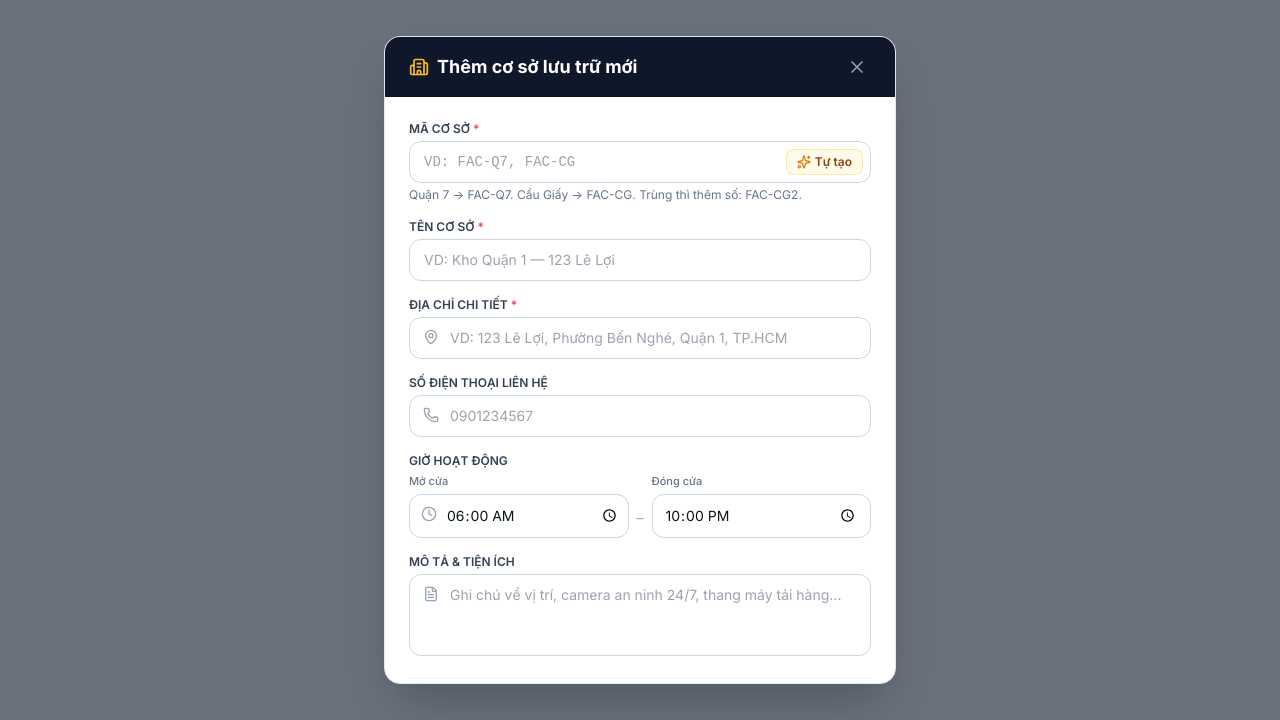
FacilityModal: Auto-generate Facility Code › cho phép người dùng tự sửa tay mã cơ sở và không bị ghi đè lại
// Tự sinh FAC-Q1
Type "Quận 1, TP.HCM" into the field with placeholder "VD: 123 Lê Lợi, Phường Bến Nghé, Quận 1, TP.HCM" at x=640, y=338, box top-left (409, 317), bottom-right (871, 359)
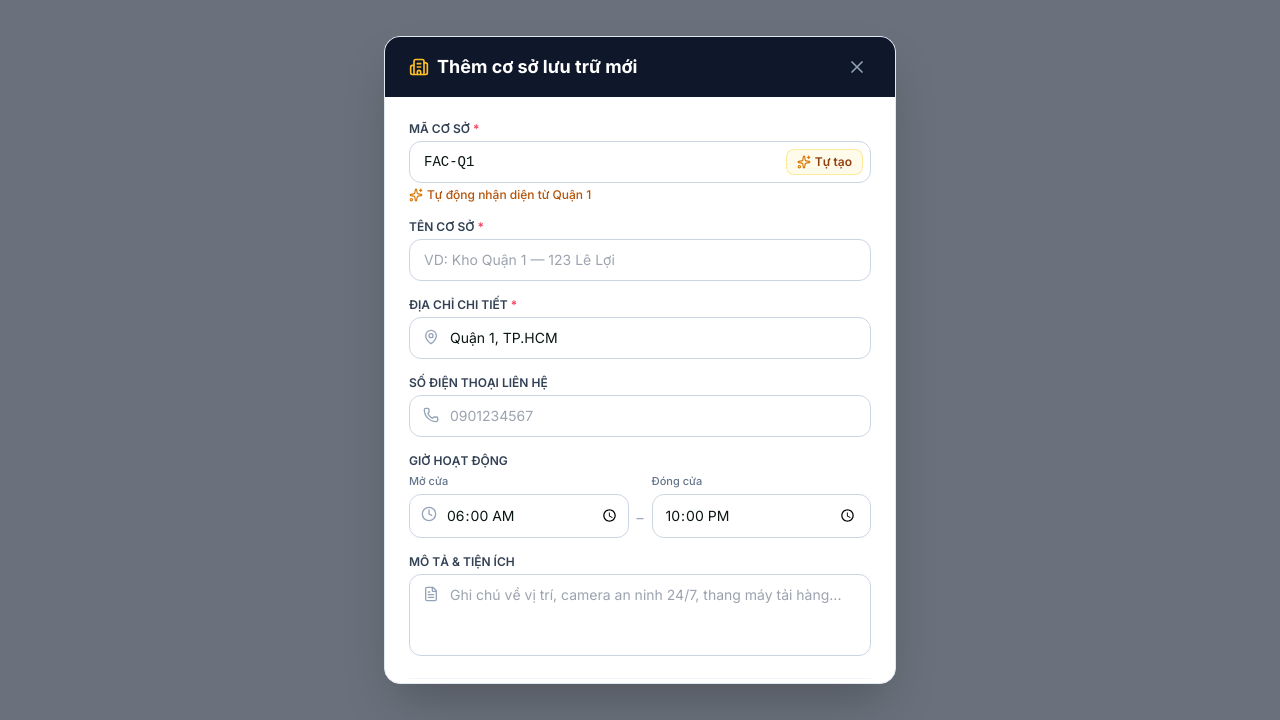
Result: the field with placeholder "VD: FAC-Q7, FAC-CG" below "Mã cơ sở" holds "FAC-Q1"
// Người dùng tự sửa tay thành FAC-VIP
Replace the text in the field with placeholder "VD: FAC-Q7, FAC-CG" below "Mã cơ sở" with "FAC-VIP" at x=640, y=162, box top-left (409, 141), bottom-right (871, 183)
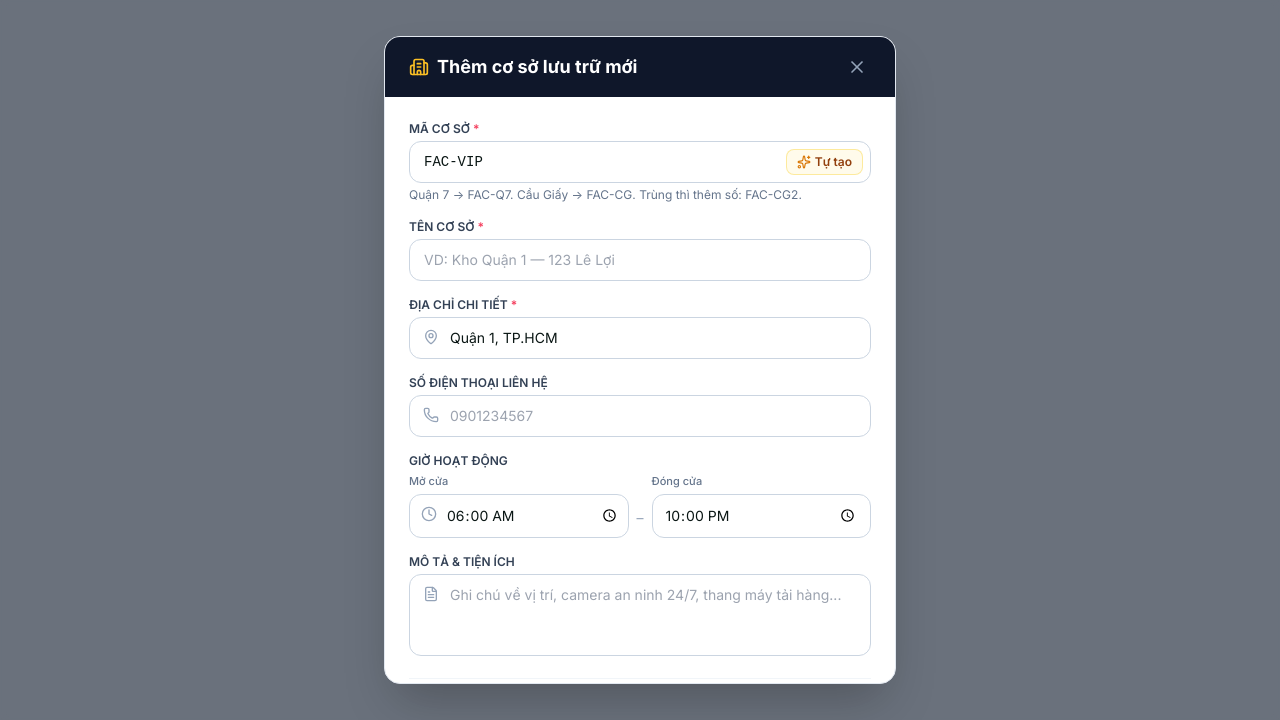
Type "Cơ sở Quận 7" into the field with placeholder "VD: Kho Quận 1 — 123 Lê Lợi" at x=640, y=260, box top-left (409, 239), bottom-right (871, 281)
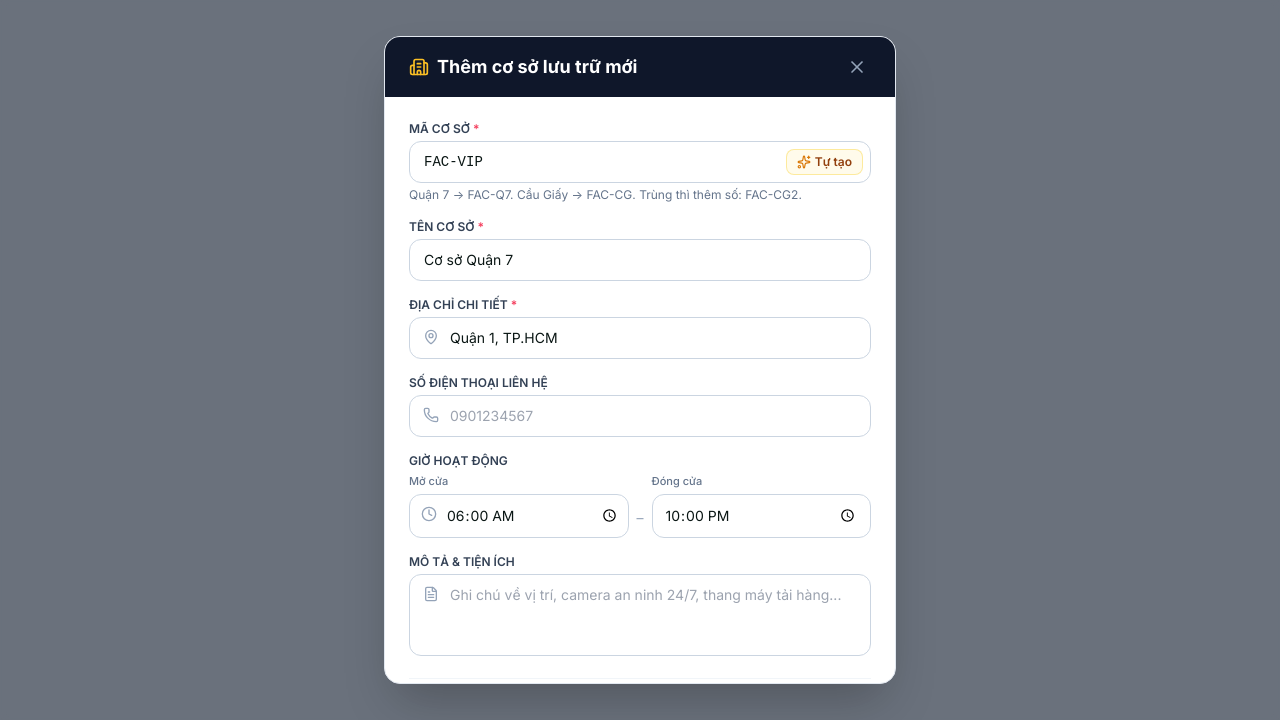
Click the button "Tự tạo" at x=824, y=162, box top-left (786, 149), bottom-right (863, 175)
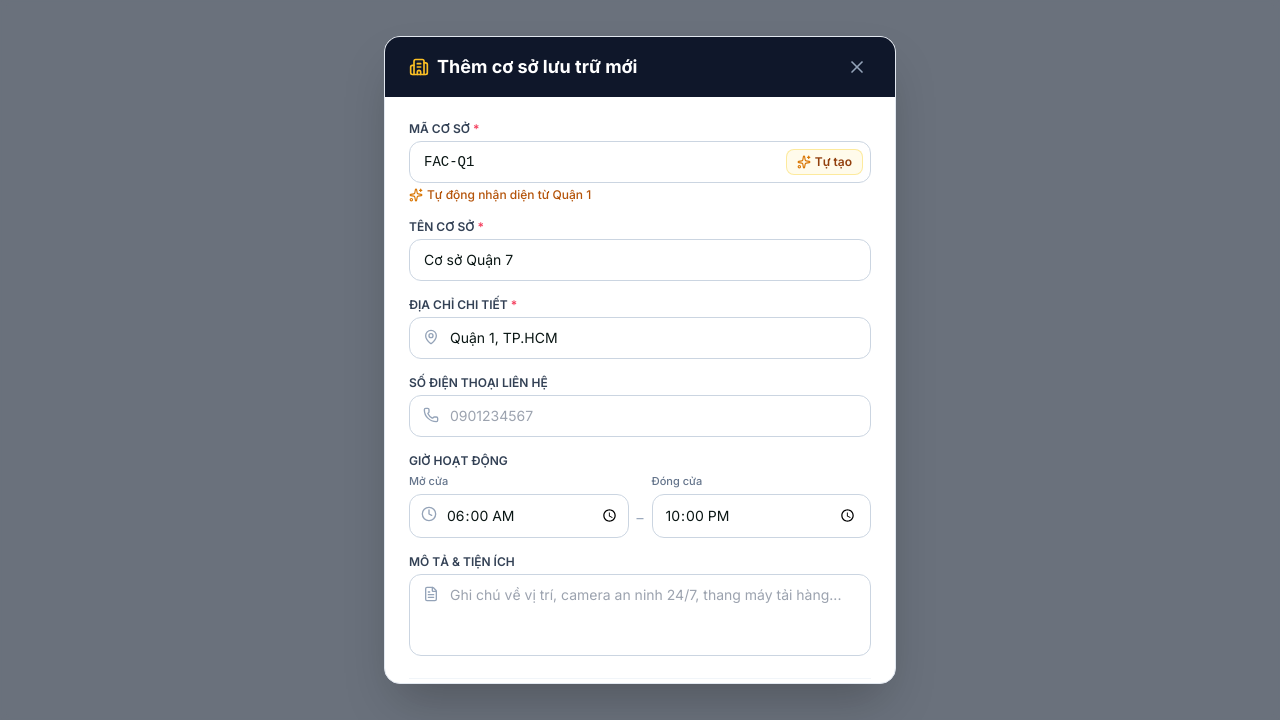
Result: the field with placeholder "VD: FAC-Q7, FAC-CG" below "Mã cơ sở" holds "FAC-Q1" at top-left (409, 141), bottom-right (871, 183)
